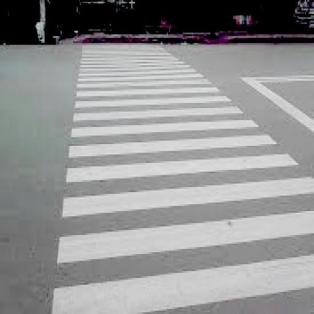Paso de Cebra: (55, 132, 308, 186)
